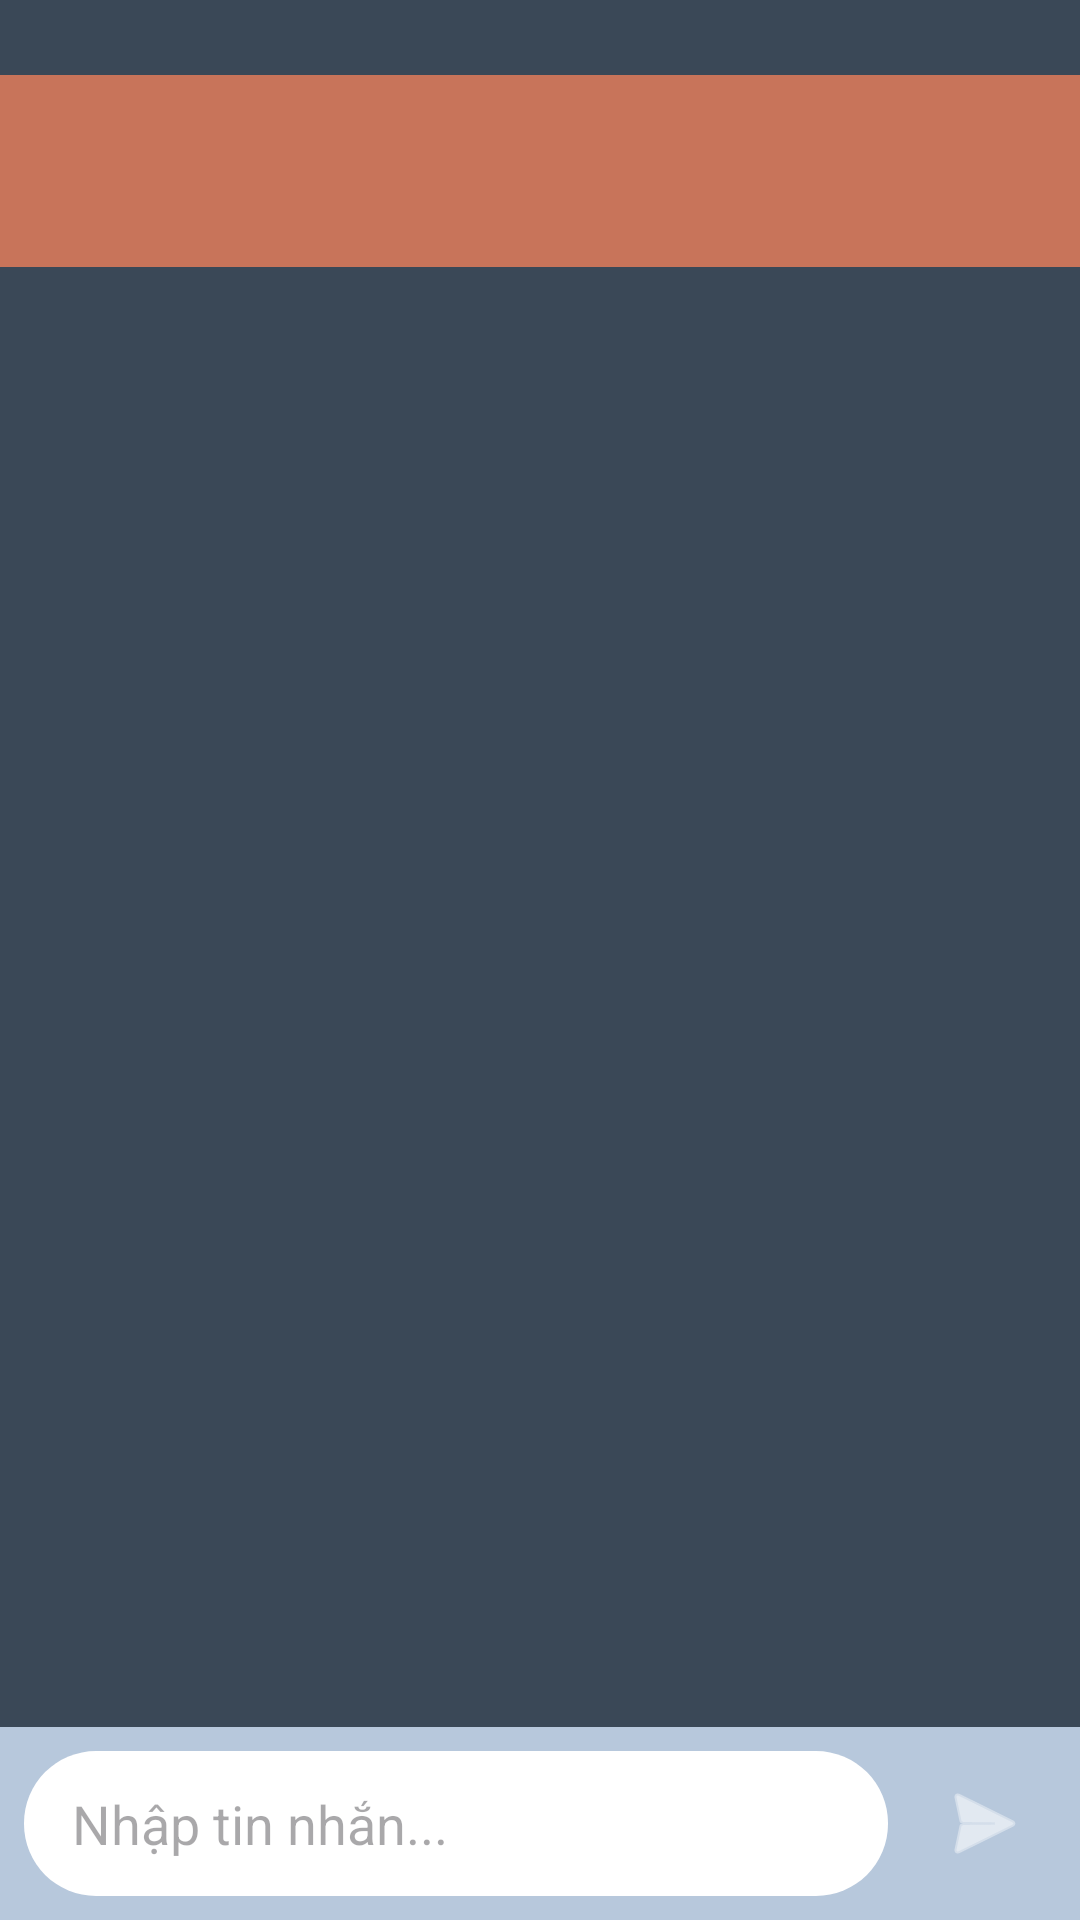

Icon bounding boxes for this 1080*1920 phone screenshot, format Rect(x1, y1, x2, y2):
send: Rect(955, 1794, 1015, 1853)
